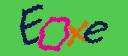E: (20, 5, 42, 44)
O: (38, 16, 69, 50)
e: (83, 20, 107, 43)
x: (65, 20, 88, 45)
